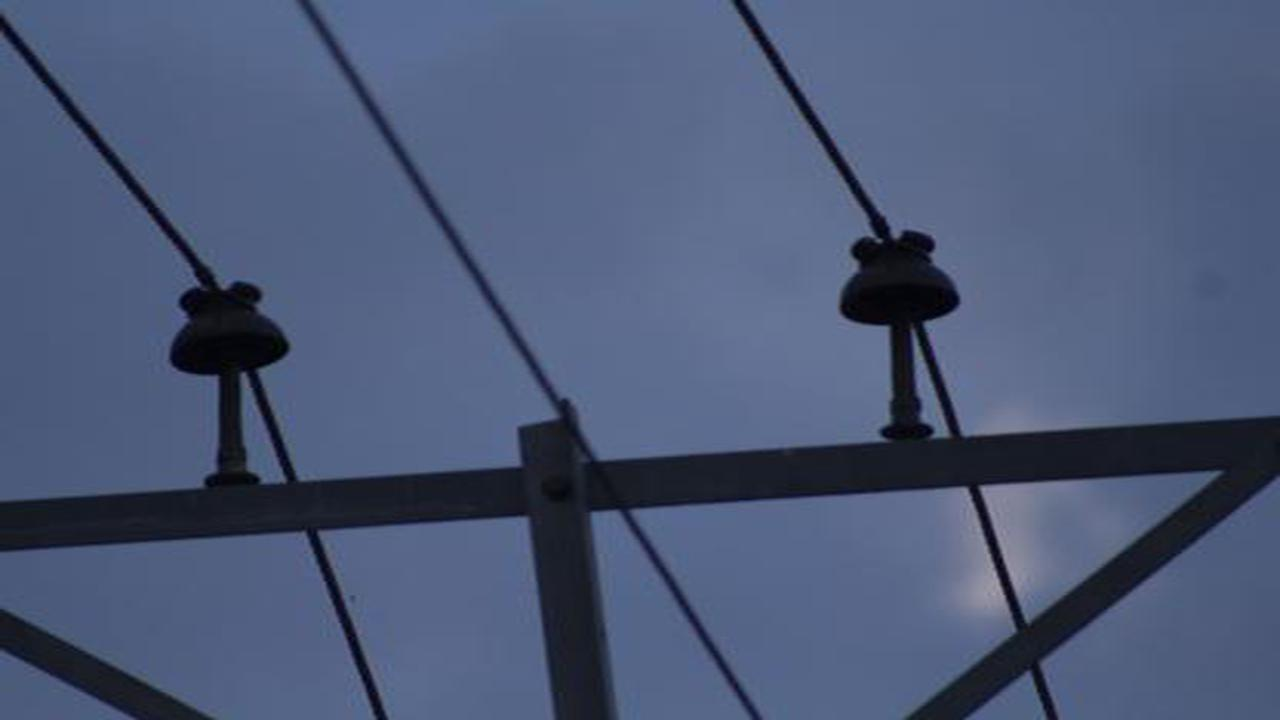insulator_pin: (834, 226, 966, 336), (165, 276, 298, 378)
